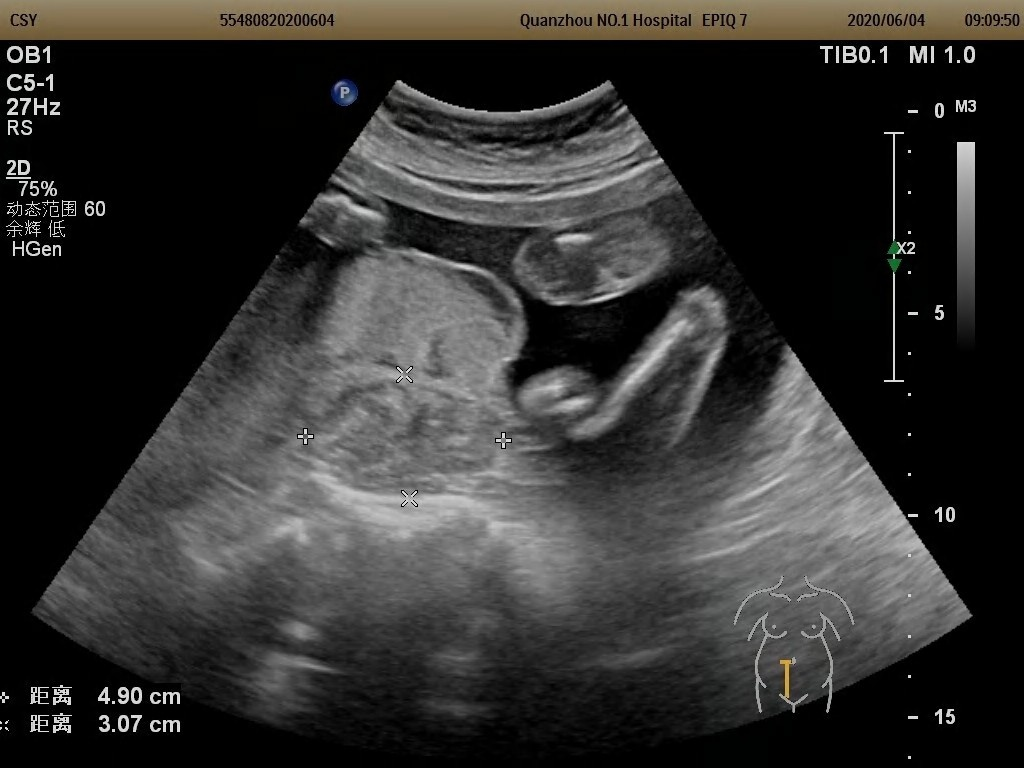肌瘤: (304, 377, 503, 497)
